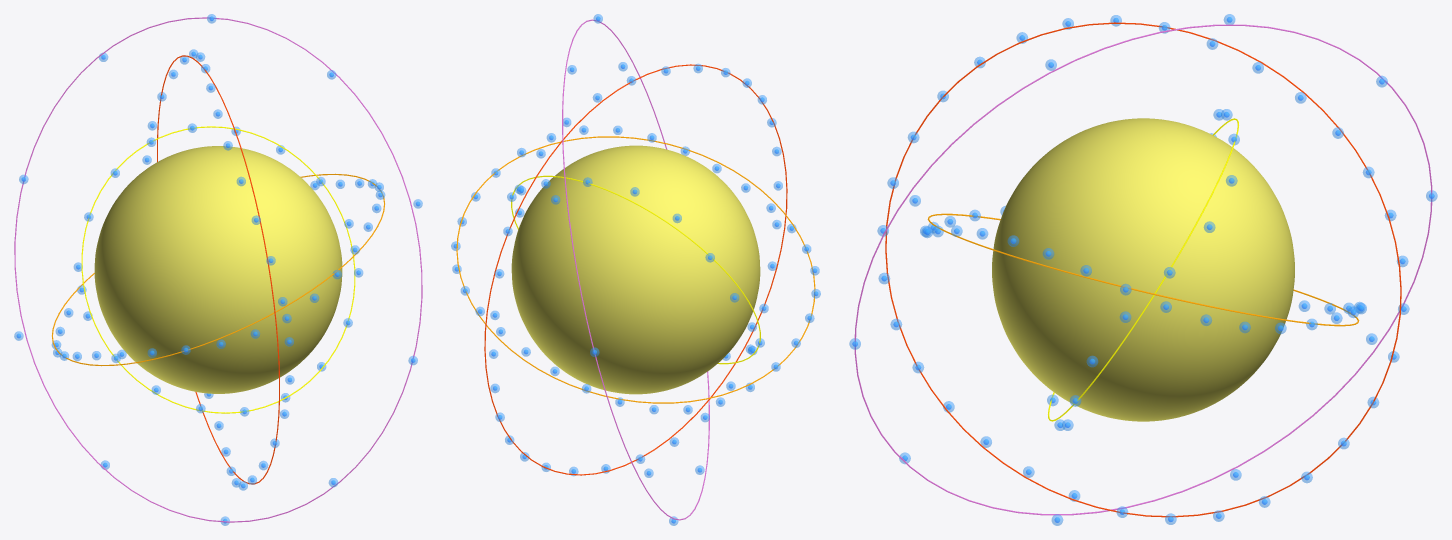
3 views of the same model, side by side, from view 1: azimuth 30°, elevation 25°; view 2: azimuth 150°, elevation 25°; view 3: azimuth 270°, elevation 25° (orthographic). The views are drawn at different scales.
Visible parts, largest first — view 1: No, object 191, object 24, object 126, object 61; view 2: No, object 126, object 61, object 191, object 24; view 3: No, object 191, object 126, object 61, object 24.
Part boxes in pixels (bbox=[...]): No: bbox=[94, 146, 342, 393]; object 191: bbox=[14, 17, 422, 522]; object 24: bbox=[81, 126, 355, 413]; object 126: bbox=[157, 55, 279, 484]; object 61: bbox=[52, 173, 384, 366]; No: bbox=[511, 145, 760, 394]; object 126: bbox=[484, 64, 787, 475]; object 61: bbox=[456, 136, 815, 403]; object 191: bbox=[562, 19, 709, 520]; object 24: bbox=[511, 175, 760, 364]; No: bbox=[992, 118, 1294, 421]; object 191: bbox=[854, 24, 1432, 515]; object 126: bbox=[885, 22, 1401, 517]; object 61: bbox=[927, 213, 1359, 326]; object 24: bbox=[1048, 118, 1238, 421].
Size of the model in its own units: 5.92 by 8.16 by 7.98.
